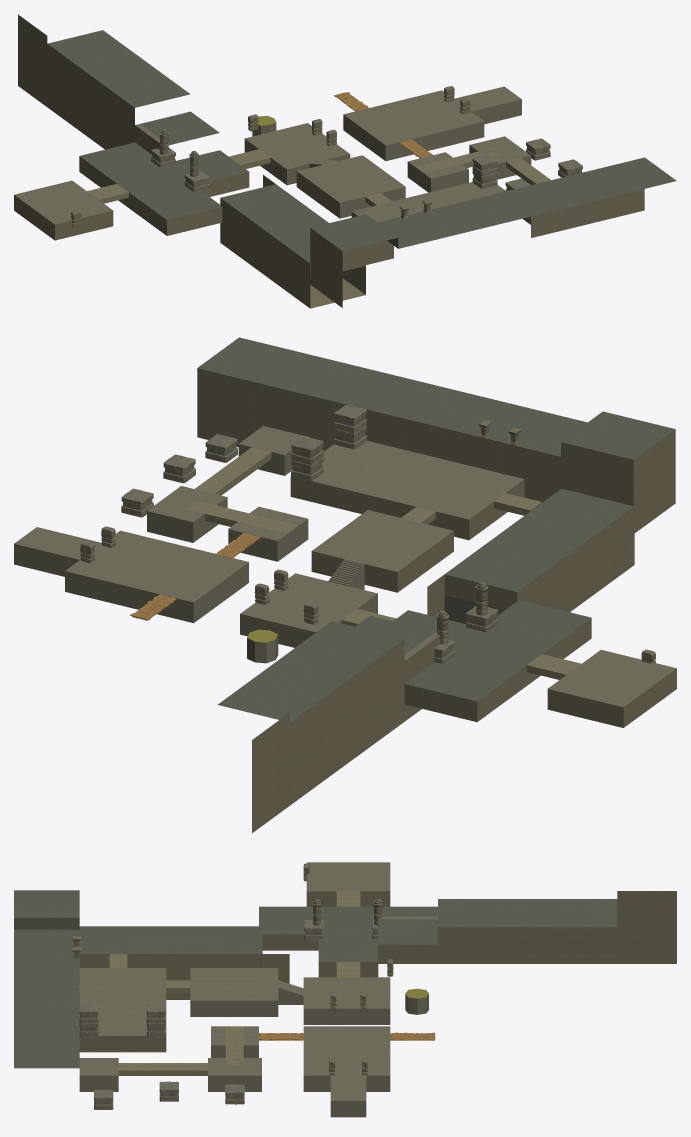
The model's file is Fortress_Section1_Blender_Normal.fbx.
3 views of the same model, one above another, from view 1: azimuth 30°, elevation 25°; view 2: azimuth 150°, elevation 25°; view 3: azimuth 270°, elevation 25° (orthographic). The views are drawn at different scales.
Parts seen in each view (by area): view 1: RightWall, Sect3EndRaisedCastle__5_, FortressEntrancePlatform, BigCastleWallLeft1, Section1EndPlatform_1_1, LeftWallFloor2, IntroPlatform_1, OpeningBrawlPlatform, PlatformFloor, Floor, RightWall_detach, LeftWallFloor1 (+9 smaller); view 2: RightWall, Sect3EndRaisedCastle__5_, BigCastleWallLeft1, Section1EndPlatform_1_1, FortressEntrancePlatform, Floor, LeftWallFloor2, RightWall_detach, IntroPlatform_1, OpeningBrawlPlatform, PlatformFloor, Walls_1 (+15 smaller); view 3: BigCastleWallLeft1, RightWall, Sect3EndRaisedCastle__5_, FortressEntrancePlatform, Section1EndPlatform_1_1, LeftWallFloor2, Floor, OpeningBrawlPlatform, IntroPlatform_1, PlatformFloor, LeftWallFloor1, Platform2_1 (+14 smaller).
Part boxes in pixels (left/top/right/bottom): RightWall: left=310, top=157, right=676, bottom=307; Sect3EndRaisedCastle__5_: left=220, top=175, right=365, bottom=308; FortressEntrancePlatform: left=79, top=142, right=249, bottom=235; BigCastleWallLeft1: left=18, top=14, right=159, bottom=154; Section1EndPlatform_1_1: left=343, top=86, right=521, bottom=161; LeftWallFloor2: left=47, top=30, right=190, bottom=107; IntroPlatform_1: left=14, top=180, right=113, bottom=240; OpeningBrawlPlatform: left=244, top=123, right=350, bottom=185; PlatformFloor: left=297, top=155, right=405, bottom=202; Floor: left=352, top=182, right=505, bottom=222; RightWall_detach: left=531, top=189, right=644, bottom=237; LeftWallFloor1: left=135, top=111, right=219, bottom=145; RightWall: left=197, top=337, right=675, bottom=532; Sect3EndRaisedCastle__5_: left=427, top=488, right=634, bottom=623; BigCastleWallLeft1: left=252, top=635, right=440, bottom=832; Section1EndPlatform_1_1: left=14, top=527, right=248, bottom=623; FortressEntrancePlatform: left=393, top=600, right=591, bottom=721; Floor: left=291, top=440, right=523, bottom=519; LeftWallFloor2: left=217, top=621, right=404, bottom=722; RightWall_detach: left=197, top=368, right=345, bottom=451; IntroPlatform_1: left=547, top=650, right=676, bottom=727; OpeningBrawlPlatform: left=240, top=573, right=377, bottom=647; PlatformFloor: left=312, top=510, right=453, bottom=571; Walls_1: left=290, top=476, right=524, bottom=540; BigCastleWallLeft1: left=378, top=891, right=676, bottom=963; RightWall: left=14, top=890, right=79, bottom=1068; Sect3EndRaisedCastle__5_: left=79, top=926, right=289, bottom=999; FortressEntrancePlatform: left=259, top=906, right=437, bottom=977; Section1EndPlatform_1_1: left=303, top=1026, right=390, bottom=1117; LeftWallFloor2: left=438, top=899, right=617, bottom=926; Floor: left=79, top=968, right=166, bottom=1035; OpeningBrawlPlatform: left=303, top=977, right=390, bottom=1024; IntroPlatform_1: left=306, top=862, right=390, bottom=906; PlatformFloor: left=190, top=968, right=278, bottom=1000; LeftWallFloor1: left=378, top=916, right=437, bottom=944; Platform2_1: left=208, top=1058, right=261, bottom=1091.
Bounding box in the file's own units: 9450 × 1520 × 11100.
